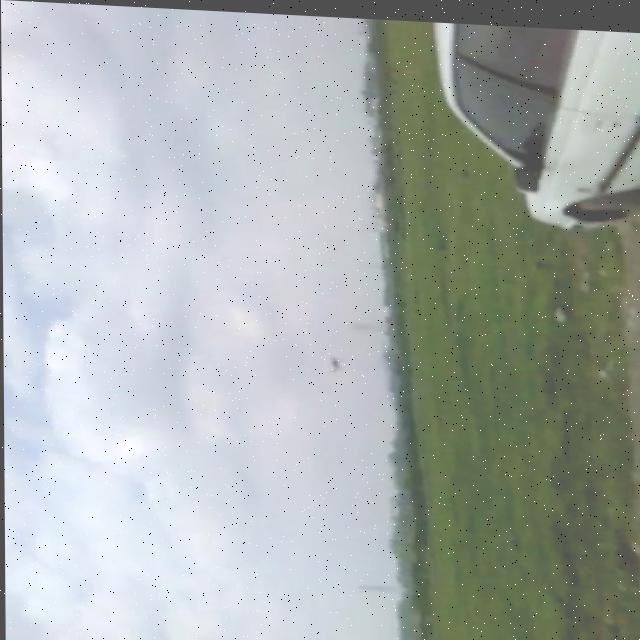drone: (320, 350, 342, 372)
